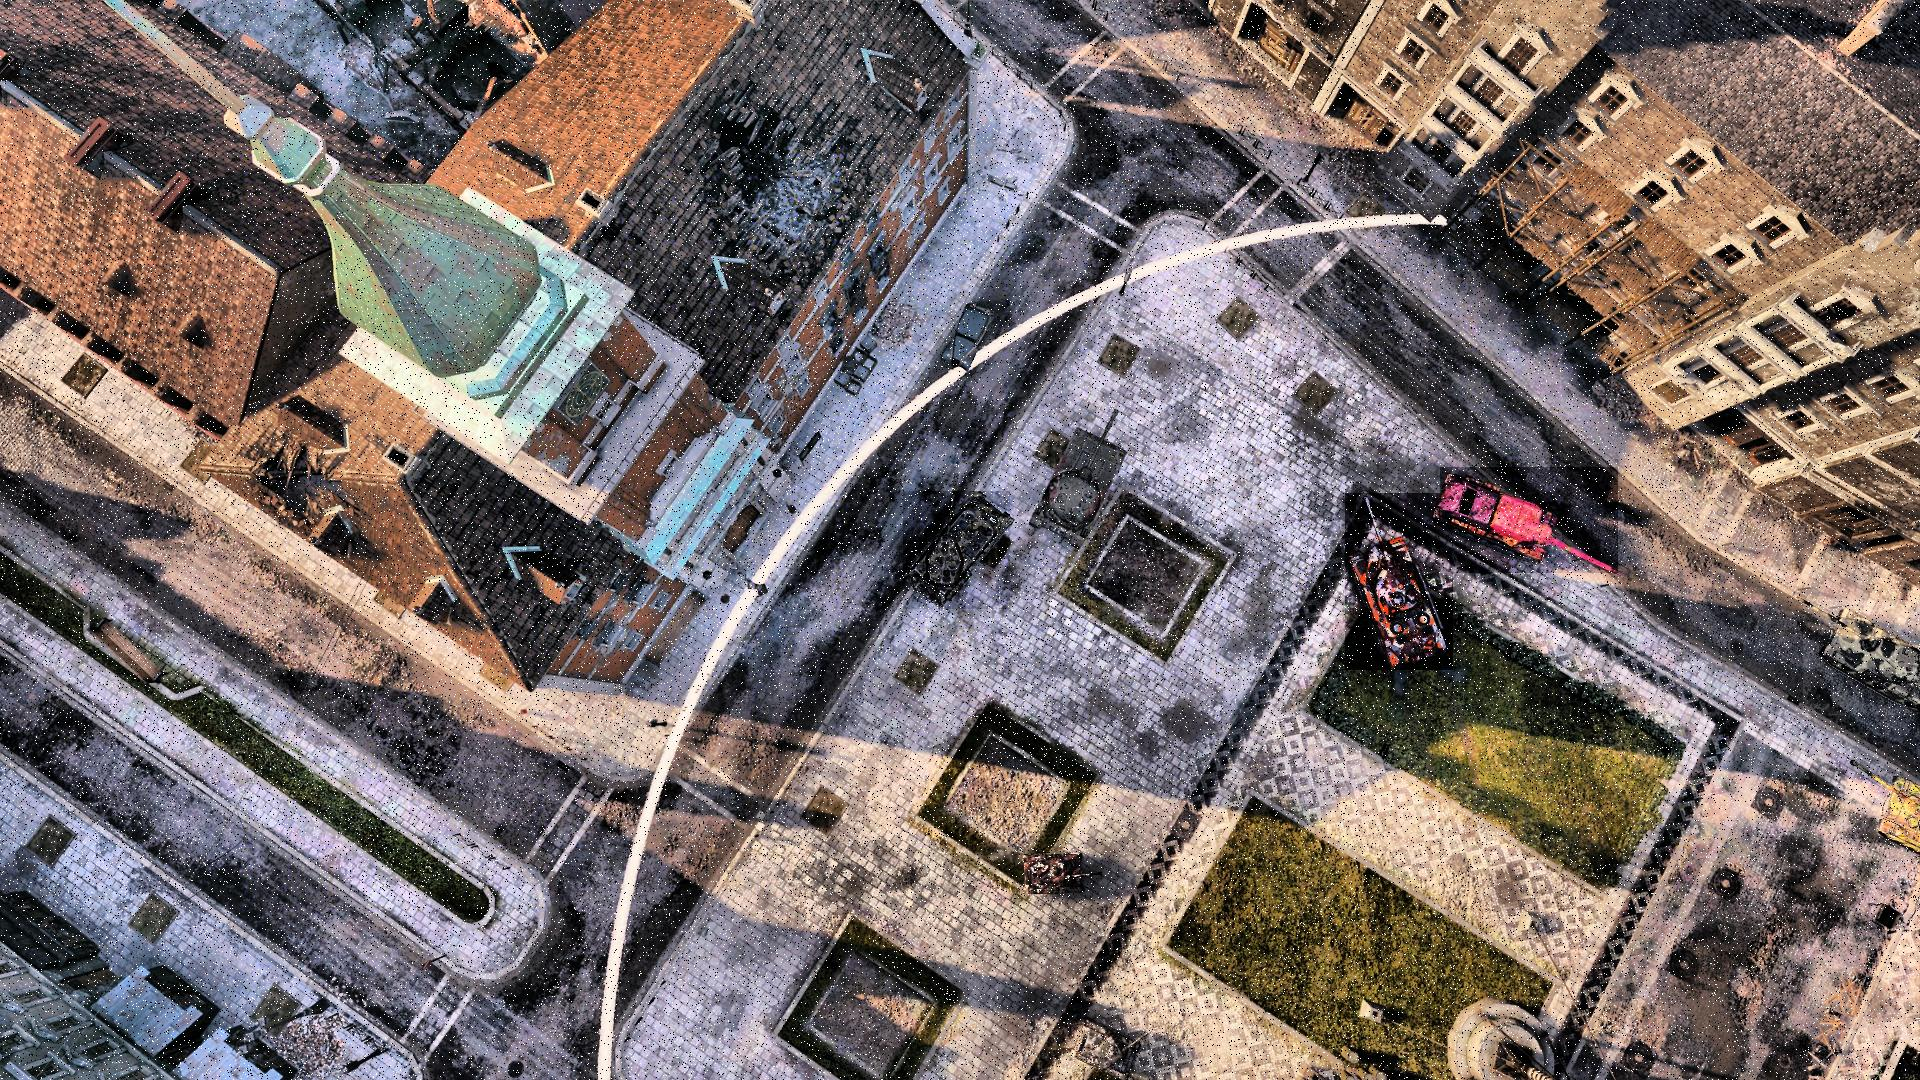military-vehicle: (1345, 493, 1453, 670), (1440, 467, 1618, 574), (1031, 409, 1133, 550), (1803, 600, 1920, 715), (903, 492, 1010, 611), (1019, 848, 1101, 895)
